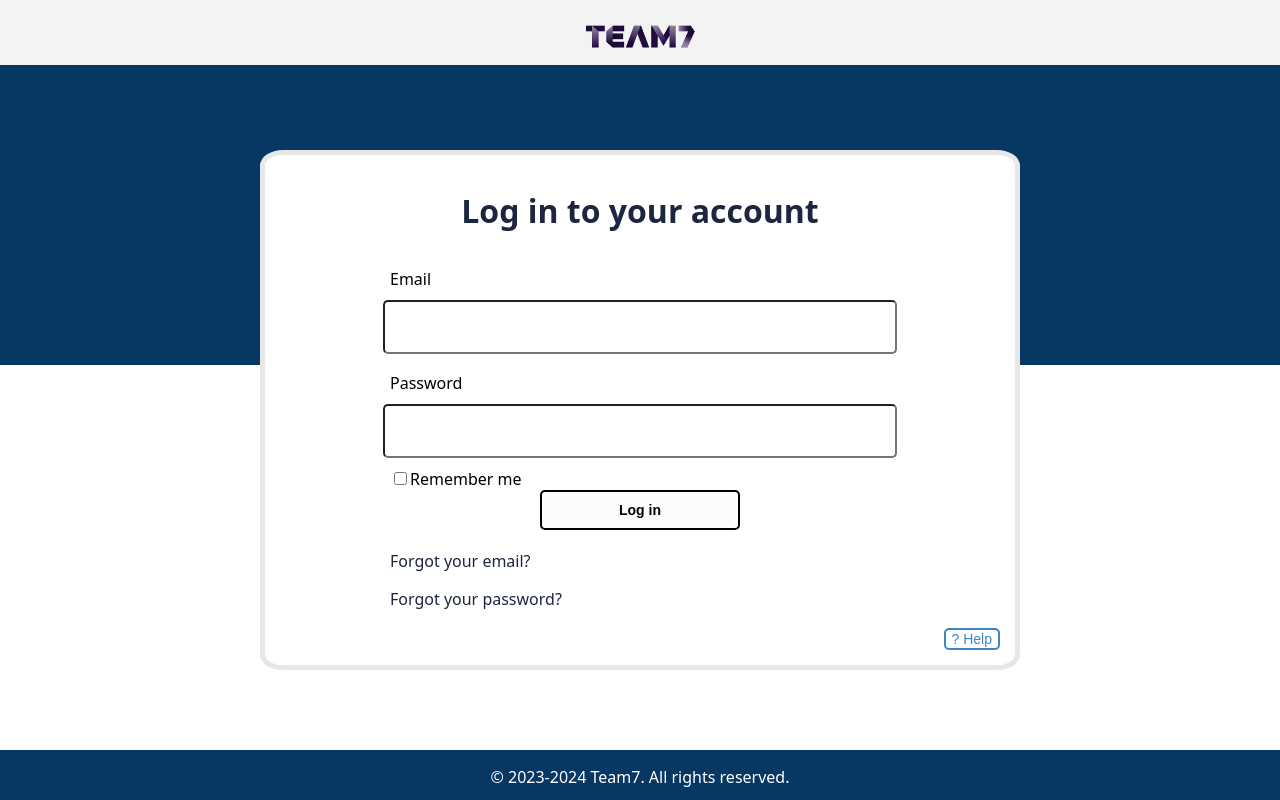
Test: Login Test #2 › Checks if no input is rejected with error message on login
The image size is (1280, 800).
// Click 'Log in' button
Click the button "Log in".
click(640, 510)  # box [540,490,740,530]
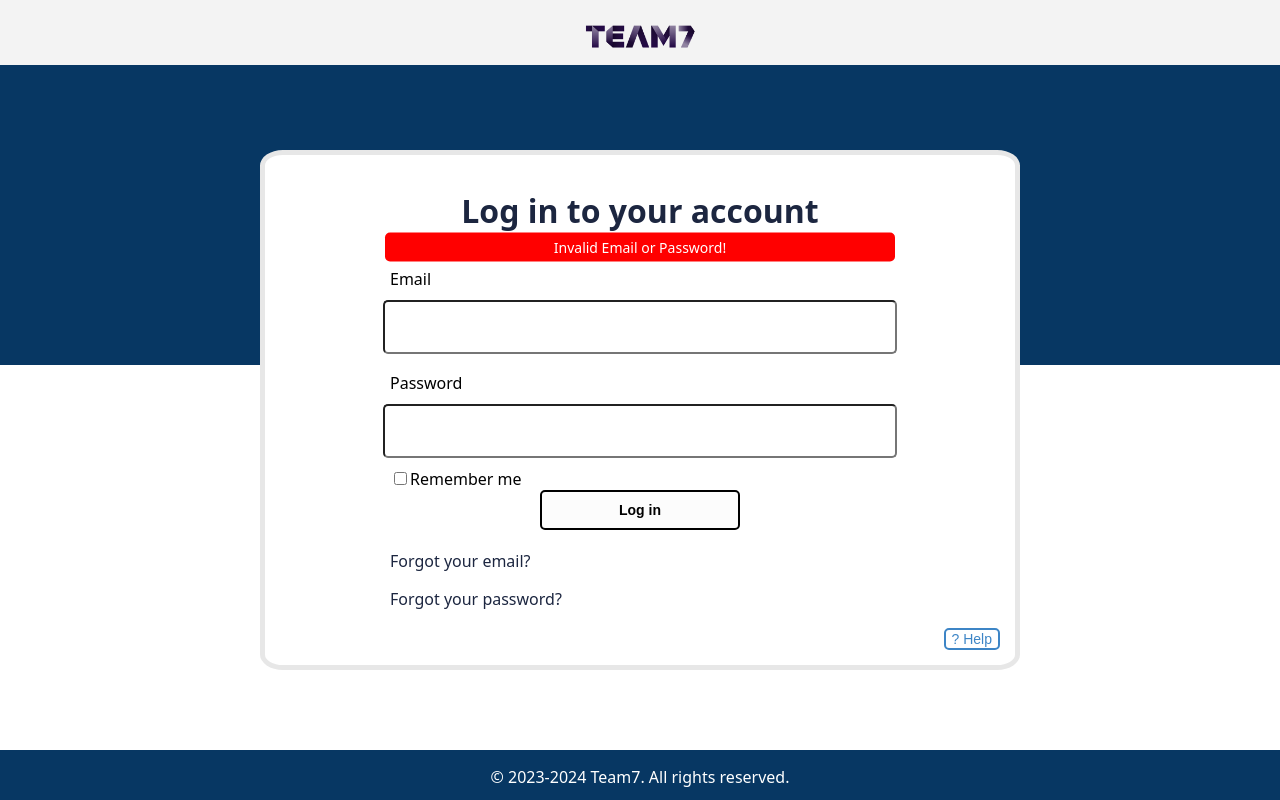
Check: the text "Invalid Email or Password!" is shown, box [385,232,895,262]
